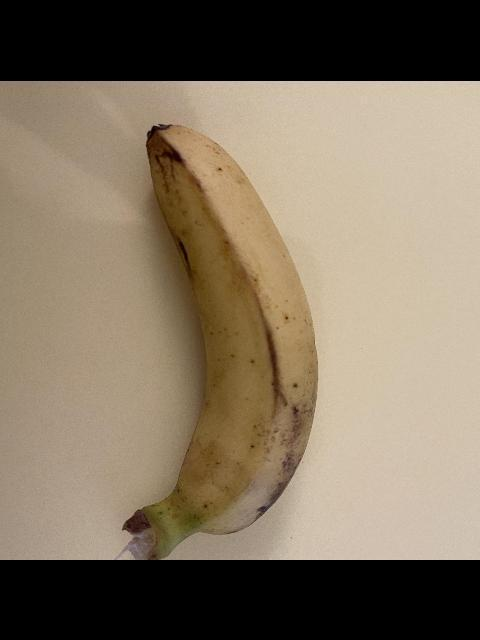banana: (118, 120, 322, 560)
